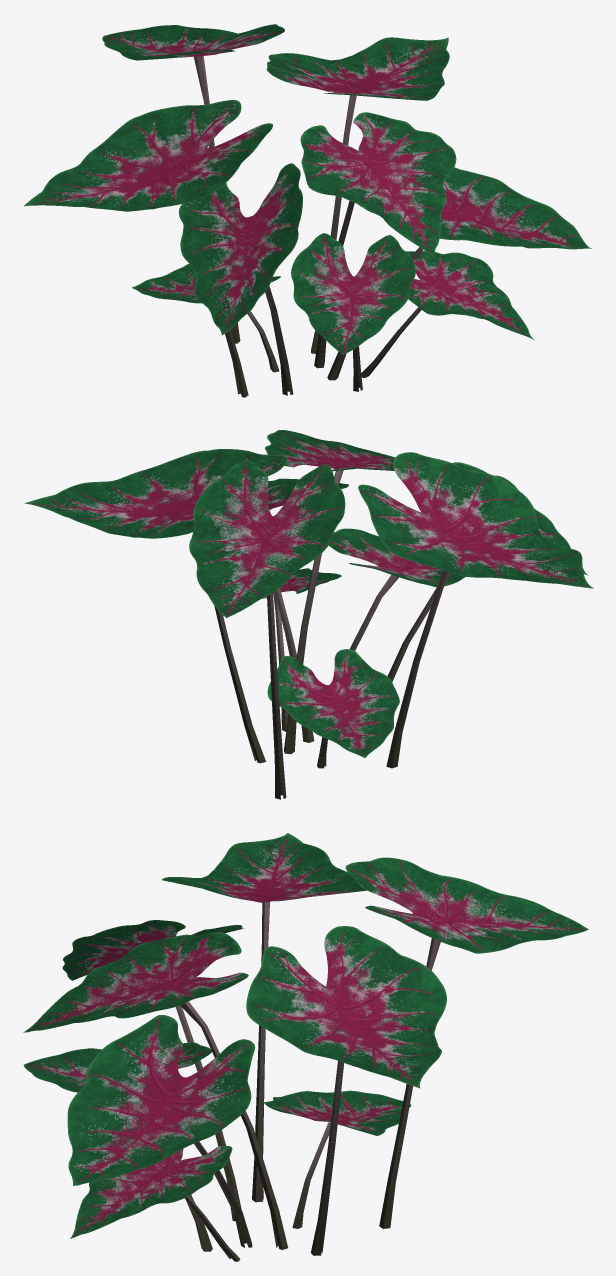
The model's file is Caladium_Grp_B.FBX.
The picture shows the model from 3 angles, top to bottom: view 1: azimuth 30°, elevation 25°; view 2: azimuth 150°, elevation 25°; view 3: azimuth 270°, elevation 25°; orthographic projection. The views are drawn at different scales.
Parts seen in each view (by area): view 1: Caladium_Grp_B; view 2: Caladium_Grp_B; view 3: Caladium_Grp_B.
Part boxes in pixels (x1,y1,x2,y2): Caladium_Grp_B: (24, 24, 591, 397); Caladium_Grp_B: (24, 430, 593, 799); Caladium_Grp_B: (23, 833, 588, 1261).
Bounding box in the file's own units: 212 × 130 × 194.
